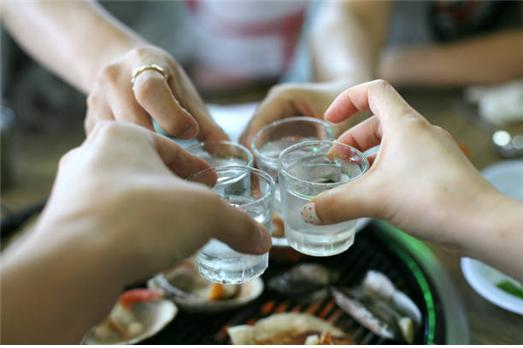alcohol: (181, 161, 278, 284), (276, 141, 367, 256), (252, 117, 337, 213), (180, 139, 253, 212)
